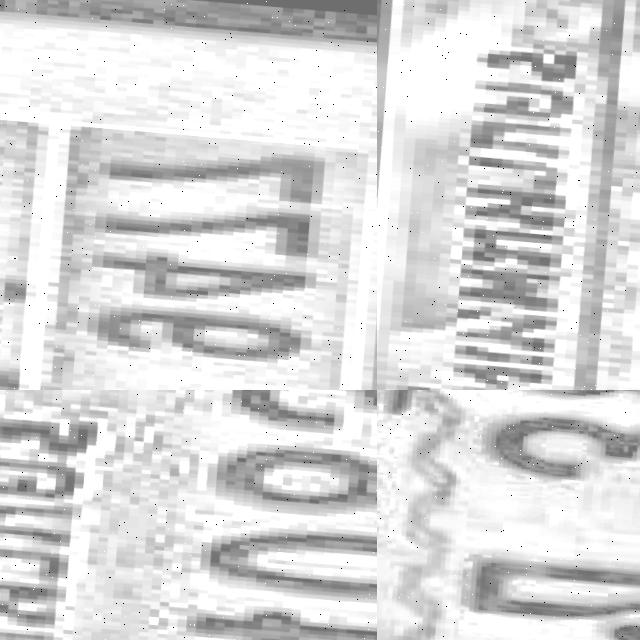license-plate: (0, 0, 377, 390), (377, 0, 640, 390), (0, 390, 377, 640), (377, 390, 640, 640)
